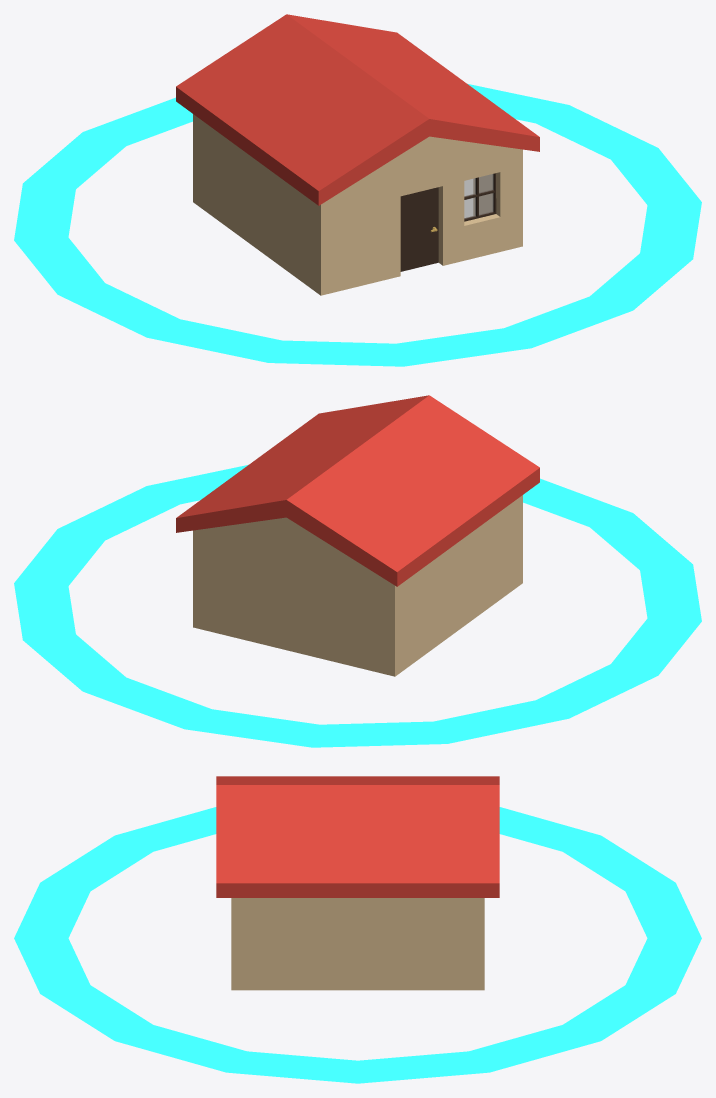
File: aura.gltf
3 renders of one model, top to bottom at view 1: azimuth 30°, elevation 25°; view 2: azimuth 150°, elevation 25°; view 3: azimuth 270°, elevation 25°, orthographic.
Parts seen in each view (by area): view 1: House, Obj Highlight.01; view 2: House, Obj Highlight.01; view 3: House, Obj Highlight.01.
Boxes of the visible parts, x1,y1,x2,y2 form: House: (176,14,539,295); Obj Highlight.01: (14,84,701,366); House: (176,395,539,676); Obj Highlight.01: (14,465,701,747); House: (216,776,499,990); Obj Highlight.01: (14,807,701,1083).
Size of what is drawn, in the model's own units: 2 by 0.5018 by 2.
